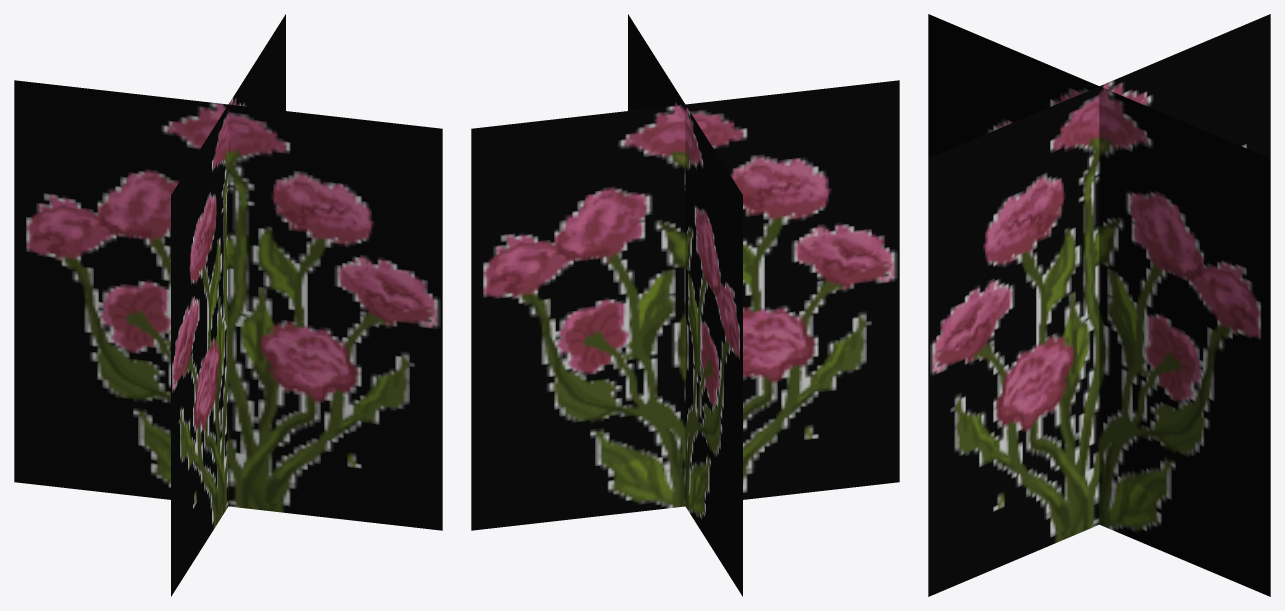
The model's file is flower01.fbx.
The picture shows the model from 3 angles, left to right: view 1: azimuth 30°, elevation 25°; view 2: azimuth 150°, elevation 25°; view 3: azimuth 270°, elevation 25°; orthographic projection. The views are drawn at different scales.
Parts seen in each view (by area): view 1: Flowers01.001, Flowers01; view 2: Flowers01, Flowers01.001; view 3: Flowers01, Flowers01.001.
Boxes of the visible parts, left/top/right/bottom form: Flowers01.001: left=14, top=80, right=442, bottom=530; Flowers01: left=171, top=14, right=285, bottom=596; Flowers01: left=471, top=80, right=899, bottom=530; Flowers01.001: left=628, top=14, right=742, bottom=596; Flowers01: left=928, top=14, right=1270, bottom=596; Flowers01.001: left=928, top=14, right=1270, bottom=596.
Bounding box in the file's own units: 48.97 × 69.25 × 48.97.
